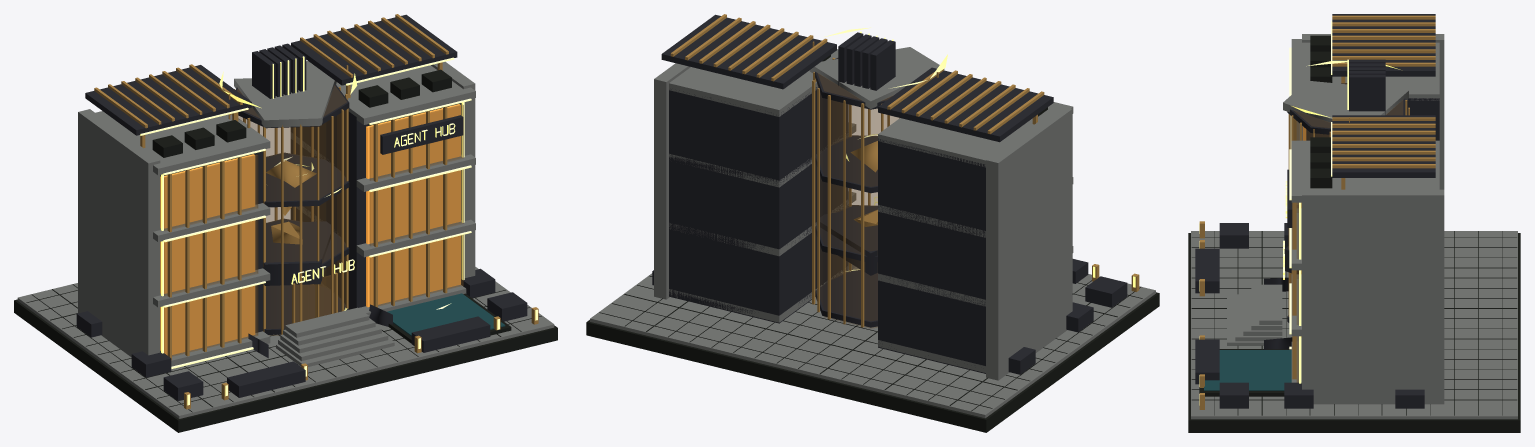
File: agent_hub_lod2.glb
The picture shows the model from 3 angles, left to right: view 1: azimuth 30°, elevation 25°; view 2: azimuth 150°, elevation 25°; view 3: azimuth 270°, elevation 25°; orthographic projection. The views are drawn at different scales.
Parts seen in each view (by area): view 1: dark, glass, warm, Neon · PBR + Emissive; view 2: dark, glass; view 3: dark, Neon · PBR + Emissive, glass.
Boxes of the visible parts, x1,y1,x2,y2 form: dark: (14,14,557,432); glass: (164,85,463,356); warm: (160,104,460,355); Neon · PBR + Emissive: (140,56,537,405); dark: (586,14,1159,432); glass: (817,73,898,328); dark: (1188,14,1520,432); Neon · PBR + Emissive: (1199,20,1400,405); glass: (1290,83,1402,382).
Bounding box in the file's own units: 12 × 8.11 × 8.99.
Materials: 4 (4 with a texture image).
